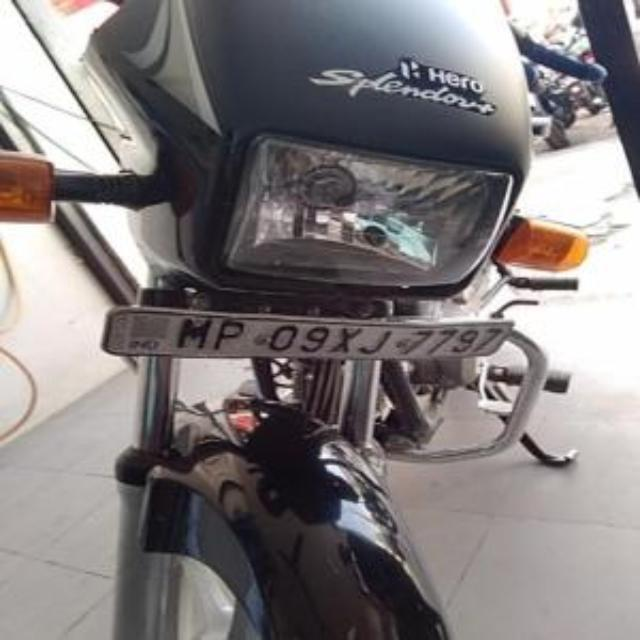License Plate: (140, 306, 523, 370)
